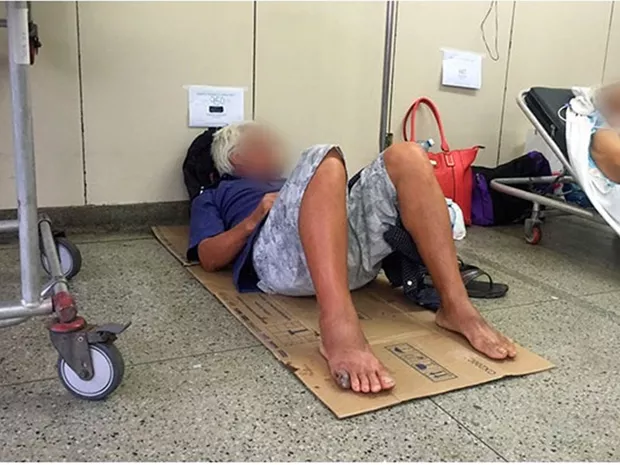Humano: (176, 112, 514, 407)
